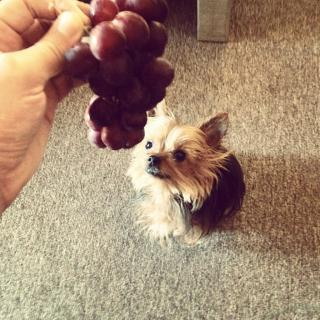Grape: (62, 0, 172, 151)
